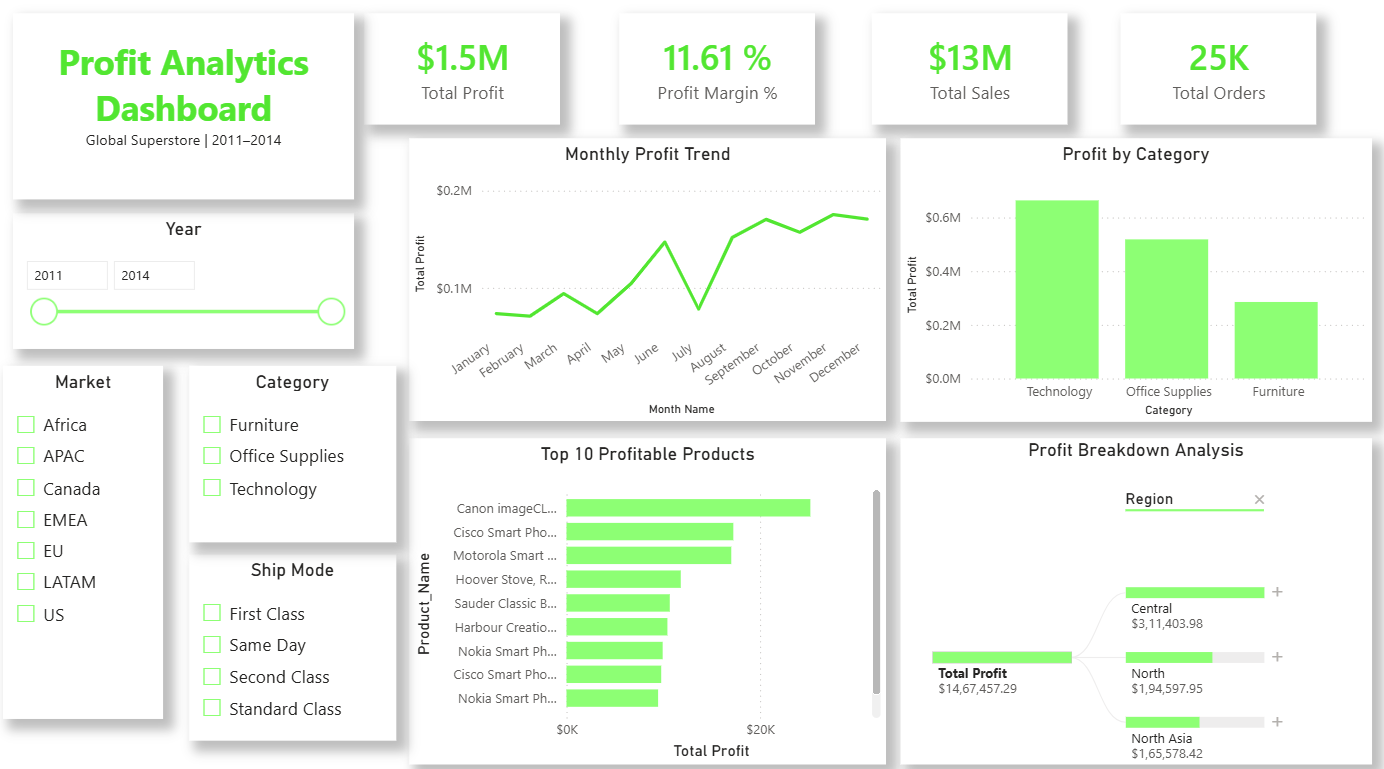

Layout of this report page (visuals, bound fields, positions):
{"tool":"powerbi","page":{"name":"Page 2","canvas":[1280,720],"ordinal":1},"visuals":[{"type":"cardVisual","fields":{"Data":["Measures (2).Total Profit"]},"box":[341.2,15,180,102],"z":0},{"type":"cardVisual","fields":{"Data":["Measures (2).Profit Margin %"]},"box":[576.2,15,180,102],"z":1000},{"type":"cardVisual","fields":{"Data":["Measures (2).Total Sales"]},"box":[807.5,15,180,102],"z":2000},{"type":"cardVisual","fields":{"Data":["Measures (2).Total Orders"]},"box":[1036.2,15,180,102],"z":3000},{"type":"lineChart","title":"Monthly Profit Trend","fields":{"Category":["Calendar.Month Name"],"Y":["Measures (2).Total Profit"]},"box":[382.5,130,438.8,260],"z":4000},{"type":"columnChart","title":"Profit by Category","fields":{"Category":["superstore1.Category"],"Y":["Measures (2).Total Profit"]},"box":[834.5,129.8,433.3,260.7],"z":5000},{"type":"barChart","title":"Top 10 Profitable Products","fields":{"Category":["superstore1.Product_Name"],"Y":["Measures (2).Total Profit"]},"box":[382.5,406.2,438.8,300],"z":6000},{"type":"decompositionTreeVisual","title":"Profit Breakdown Analysis","fields":{"Analyze":["Measures (2).Total Profit"],"ExplainBy":["superstore1.Region","superstore1.Category","superstore1.Sub_Category","superstore1.Market"]},"box":[834.5,406,433.3,300],"z":7000},{"type":"slicer","title":"Year","fields":{"Values":["Calendar.Year"]},"box":[18.8,198.8,313.8,125],"z":8000},{"type":"slicer","title":"Market","fields":{"Values":["superstore1.Market"]},"box":[8.8,338.8,147.5,325],"z":9000},{"type":"slicer","title":"Ship Mode","fields":{"Values":["superstore1.Ship_Mode"]},"box":[180,512.5,190,171.2],"z":10000},{"type":"slicer","title":"Category","fields":{"Values":["superstore1.Category"]},"box":[180,338.8,190,162.5],"z":11000},{"type":"textbox","box":[18.8,15,313.8,171.2],"z":12000}]}

Visuals, with their boxes in screenshot pixels (x1, y1, x2, y2), scaled from the page's 1280x720 canvas onto the 1384x769 screenshot:
cardVisual - Measures (2).Total Profit: locate(369, 16, 564, 125)
cardVisual - Measures (2).Profit Margin %: locate(623, 16, 818, 125)
cardVisual - Measures (2).Total Sales: locate(873, 16, 1068, 125)
cardVisual - Measures (2).Total Orders: locate(1120, 16, 1315, 125)
"Monthly Profit Trend" lineChart: locate(414, 139, 888, 417)
"Profit by Category" columnChart: locate(902, 139, 1371, 417)
"Top 10 Profitable Products" barChart: locate(414, 434, 888, 754)
"Profit Breakdown Analysis" decompositionTreeVisual: locate(902, 434, 1371, 754)
"Year" slicer: locate(20, 212, 360, 346)
"Market" slicer: locate(10, 362, 169, 709)
"Ship Mode" slicer: locate(195, 547, 400, 730)
"Category" slicer: locate(195, 362, 400, 535)
textbox: locate(20, 16, 360, 199)
